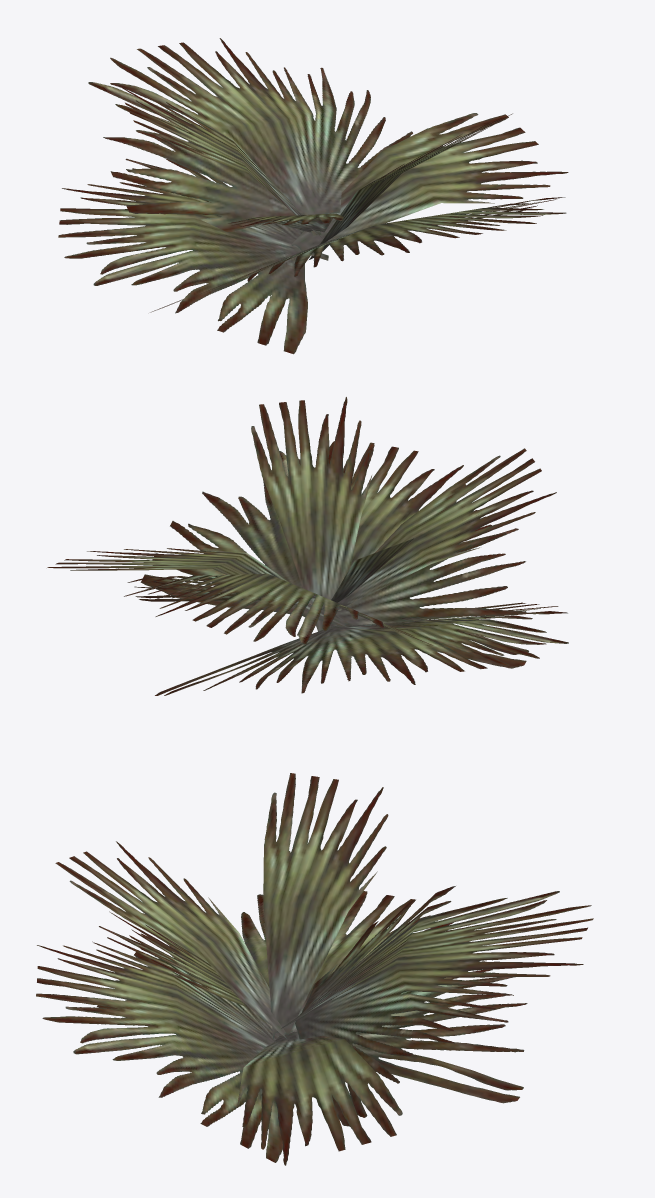
The model's file is S_Plant_Yellow025.FBX.
3 renders of one model, top to bottom at view 1: azimuth 30°, elevation 25°; view 2: azimuth 150°, elevation 25°; view 3: azimuth 270°, elevation 25°, orthographic. The views are drawn at different scales.
Parts seen in each view (by area): view 1: S_Plant_Yellow025; view 2: S_Plant_Yellow025; view 3: S_Plant_Yellow025.
Boxes of the visible parts, x1,y1,x2,y2 form: S_Plant_Yellow025: (58, 38, 568, 354); S_Plant_Yellow025: (47, 397, 568, 695); S_Plant_Yellow025: (36, 773, 593, 1165).
Bounding box in the file's own units: 645 × 590 × 225.
Materials: 1 (1 with a texture image).
